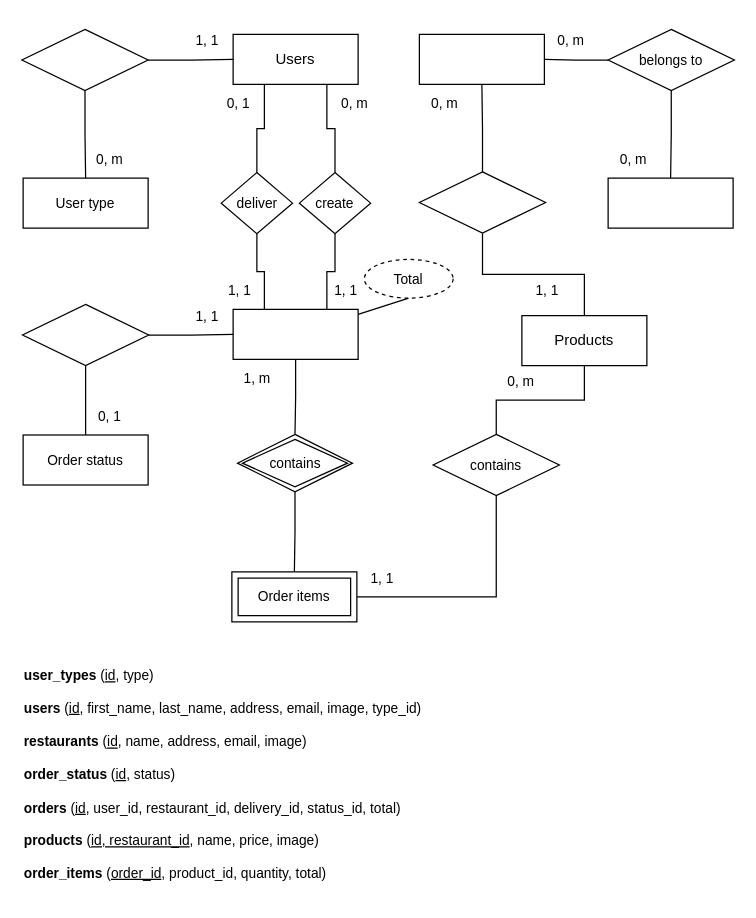
Some shapes in this 756 by 918 pixel diagram are drawn without their labels. Each missing label, with the centre of its shape:
"Categories" goes at point (670, 202).
"has status" goes at point (85, 334).
"Orders" goes at point (295, 333).
"Restaurants" goes at point (481, 58).
"sell" goes at point (482, 202).
"type of" goes at point (84, 59).
